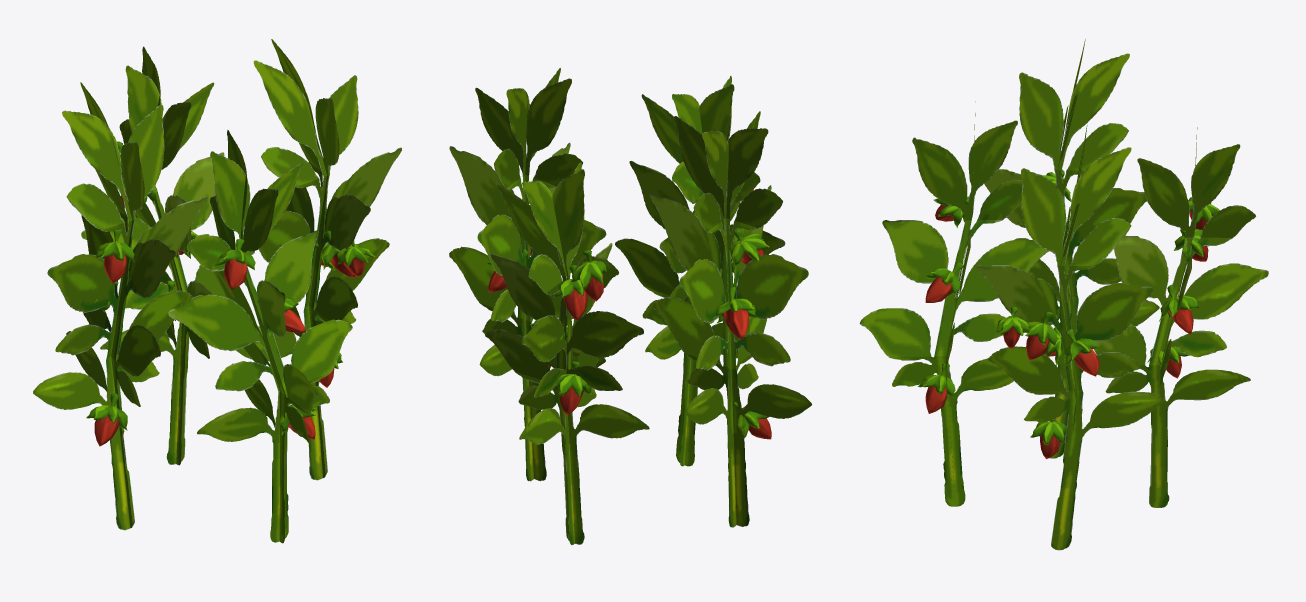
File: Pepper_Step02.fbx
3 views of the same model, side by side, from view 1: azimuth 30°, elevation 25°; view 2: azimuth 150°, elevation 25°; view 3: azimuth 270°, elevation 25° (orthographic). The views are drawn at different scales.
Parts seen in each view (by area): view 1: Pepper_Step02; view 2: Pepper_Step02; view 3: Pepper_Step02.
Part boxes in pixels (left/top/right/bottom): Pepper_Step02: left=33, top=39, right=401, bottom=543; Pepper_Step02: left=449, top=68, right=811, bottom=545; Pepper_Step02: left=859, top=39, right=1268, bottom=550.
Bounding box in the file's own units: 180 × 211 × 187.
